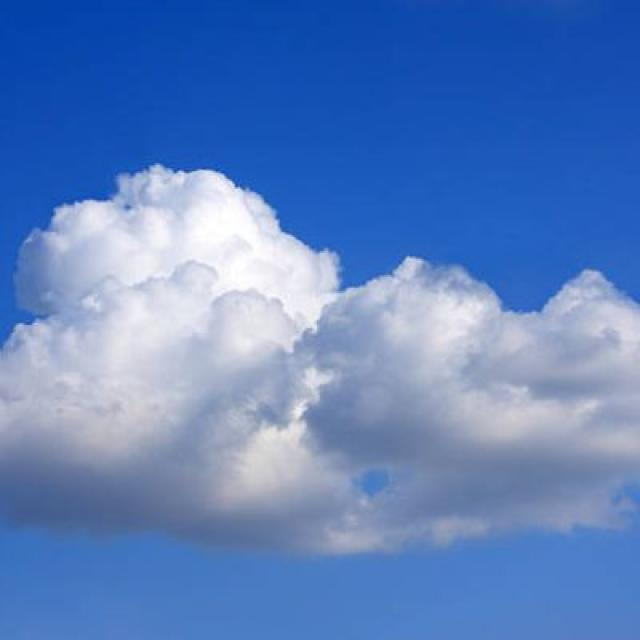Cu: (1, 159, 640, 554)
